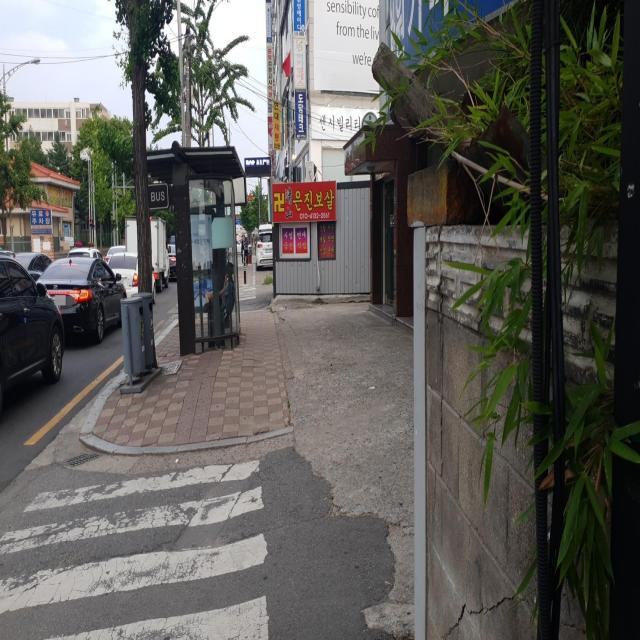횡단보도: (0, 458, 270, 640)
